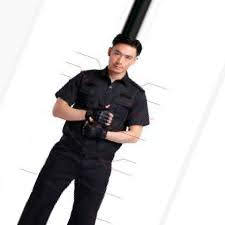uniform: (16, 68, 153, 224)
